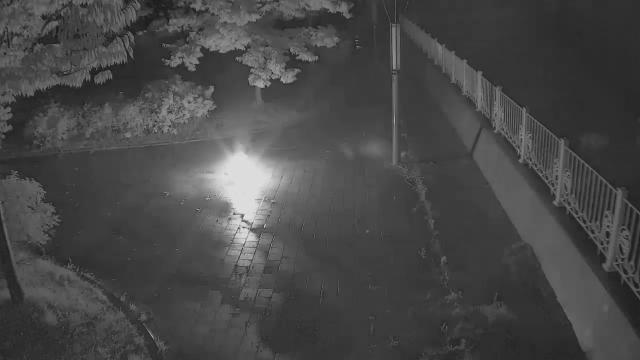fire: (210, 152, 274, 212)
